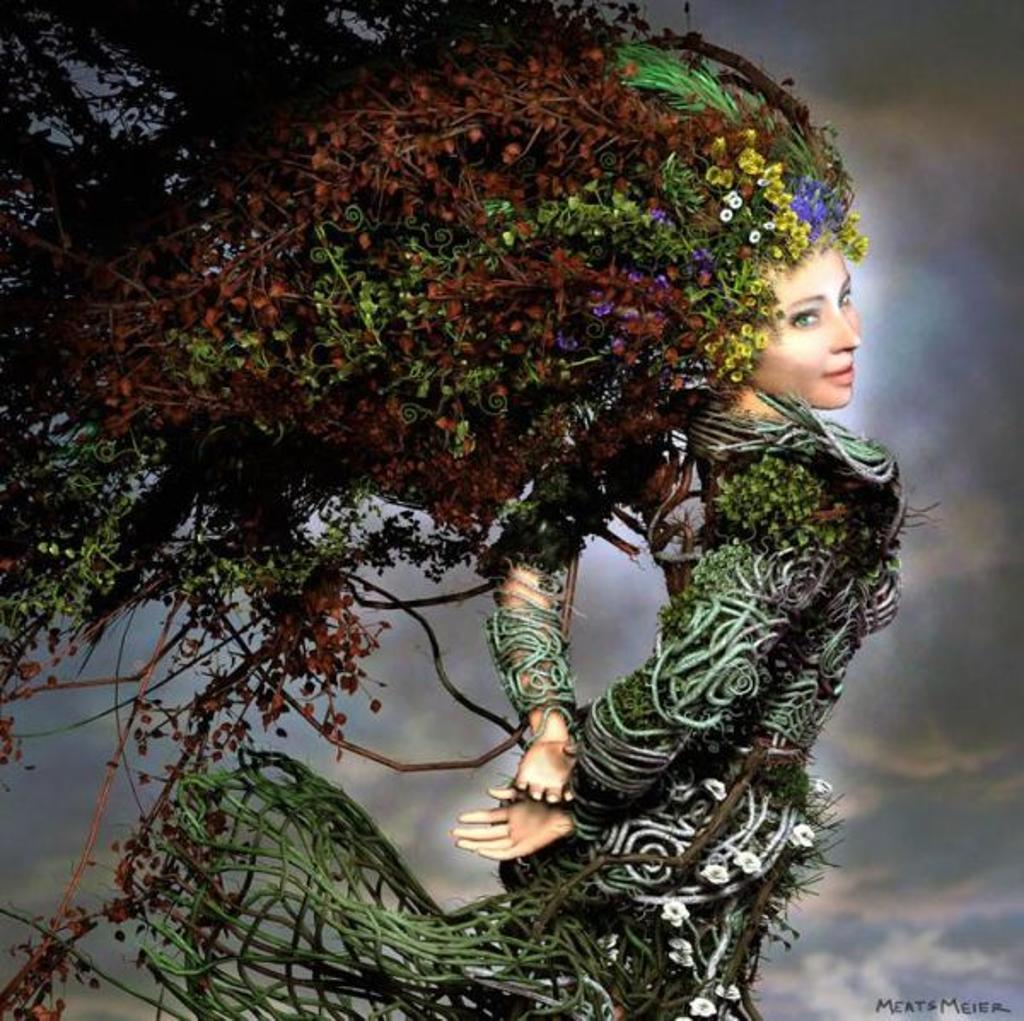face: (764, 242, 864, 408)
